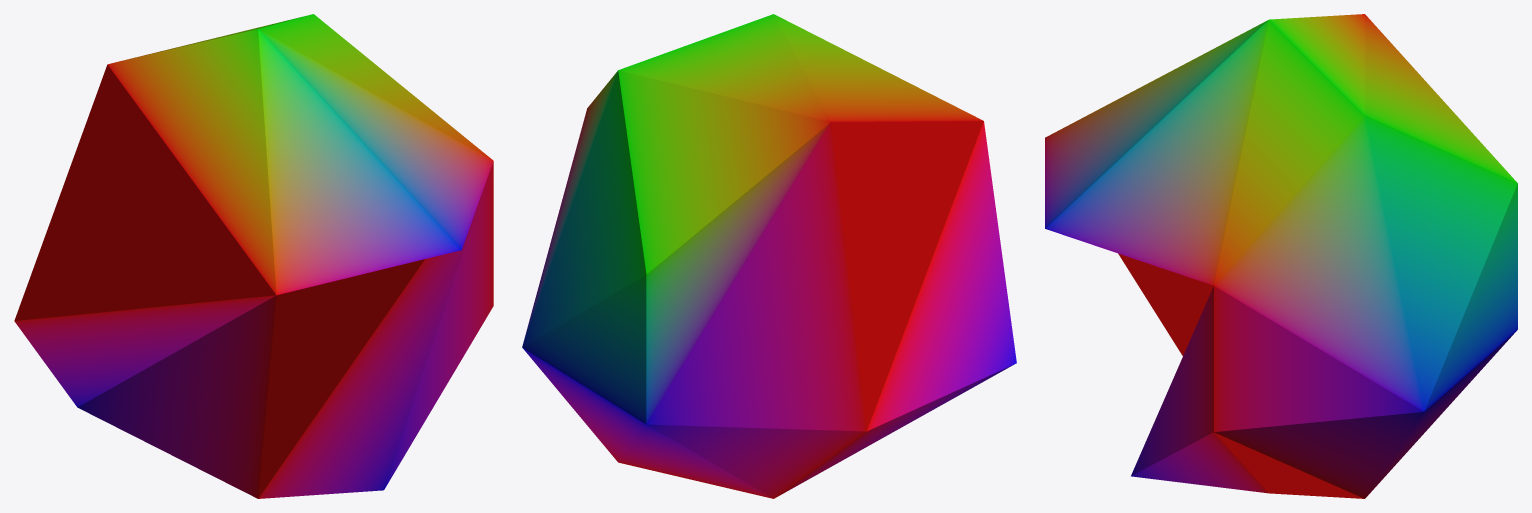
File: after_decimating_conquest_4_4.obj
3 renders of one model, left to right at view 1: azimuth 30°, elevation 25°; view 2: azimuth 150°, elevation 25°; view 3: azimuth 270°, elevation 25°, orthographic. The views are drawn at different scales.
Size of the model in its own units: 1.85 by 2 by 1.81.
